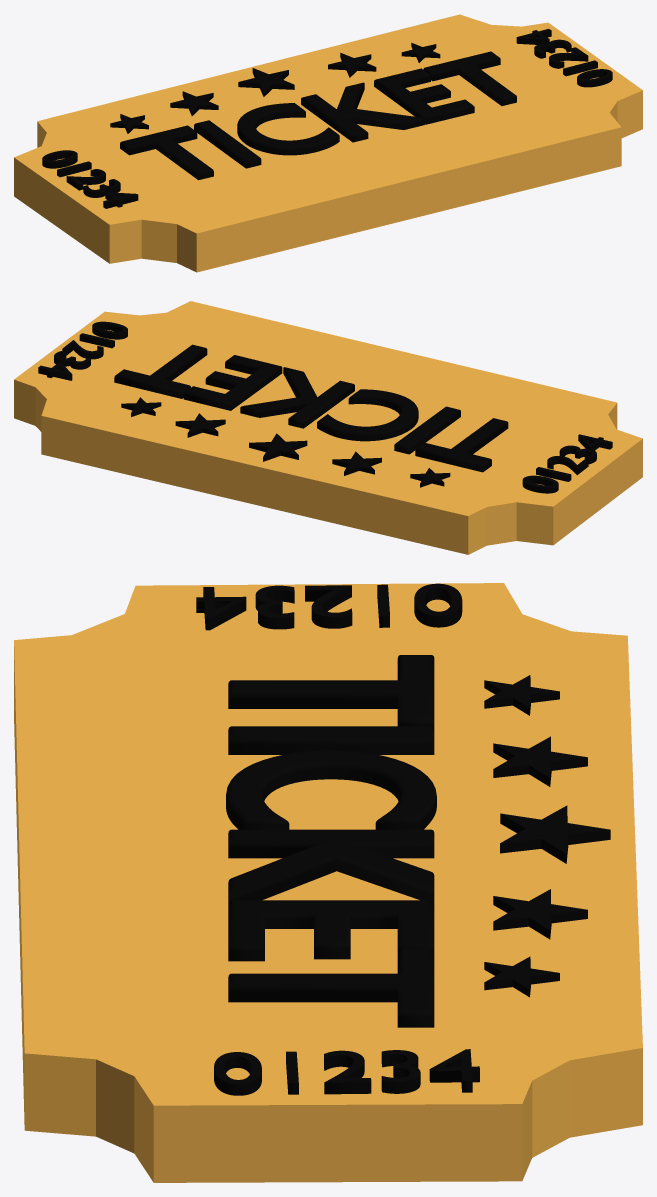
File: ticket.glb
3 views of the same model, one above another, from view 1: azimuth 30°, elevation 25°; view 2: azimuth 150°, elevation 25°; view 3: azimuth 270°, elevation 25° (orthographic). The views are drawn at different scales.
Parts seen in each view (by area): view 1: Cube, Text, Text.001, Text.002, Cube.001, Cube.003, Cube.004, Cube.002, Cube.005; view 2: Cube, Text, Text.001, Text.002, Cube.001, Cube.003, Cube.004, Cube.002, Cube.005; view 3: Cube, Text, Text.001, Text.002, Cube.001, Cube.004, Cube.003, Cube.005, Cube.002.
Boxes of the visible parts, x1,y1,x2,y2 form: Cube: (14,14,642,272); Text: (120,51,516,180); Text.001: (42,150,138,208); Text.002: (516,29,612,87); Cube.001: (238,68,294,96); Cube.003: (328,52,376,77); Cube.004: (170,91,218,115); Cube.002: (401,42,440,62); Cube.005: (110,114,148,133); Cube: (14,301,642,554); Text: (114,344,508,472); Text.001: (522,434,612,493); Text.002: (38,321,127,380); Cube.001: (249,433,307,461); Cube.003: (175,413,225,437); Cube.004: (332,451,381,475); Cube.002: (121,397,161,416); Cube.005: (410,468,450,487); Cube: (14,583,642,1182); Text: (226,655,436,1027); Text.001: (196,583,462,630); Text.002: (214,1049,479,1095); Cube.001: (500,805,610,863); Cube.004: (493,736,587,786); Cube.003: (493,889,587,939); Cube.005: (484,675,559,715); Cube.002: (484,956,559,997).
Bounding box in the file's own units: 4.34 × 0.3594 × 2.21.
Materials: 2 (1 with a texture image).
